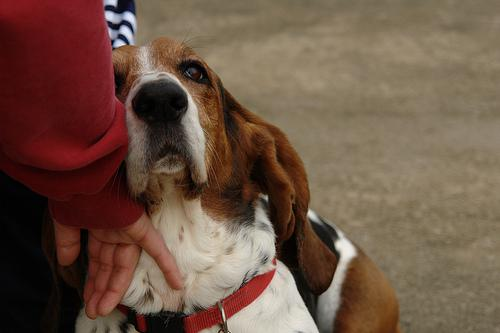dog-basset_hound: (41, 35, 335, 292)
